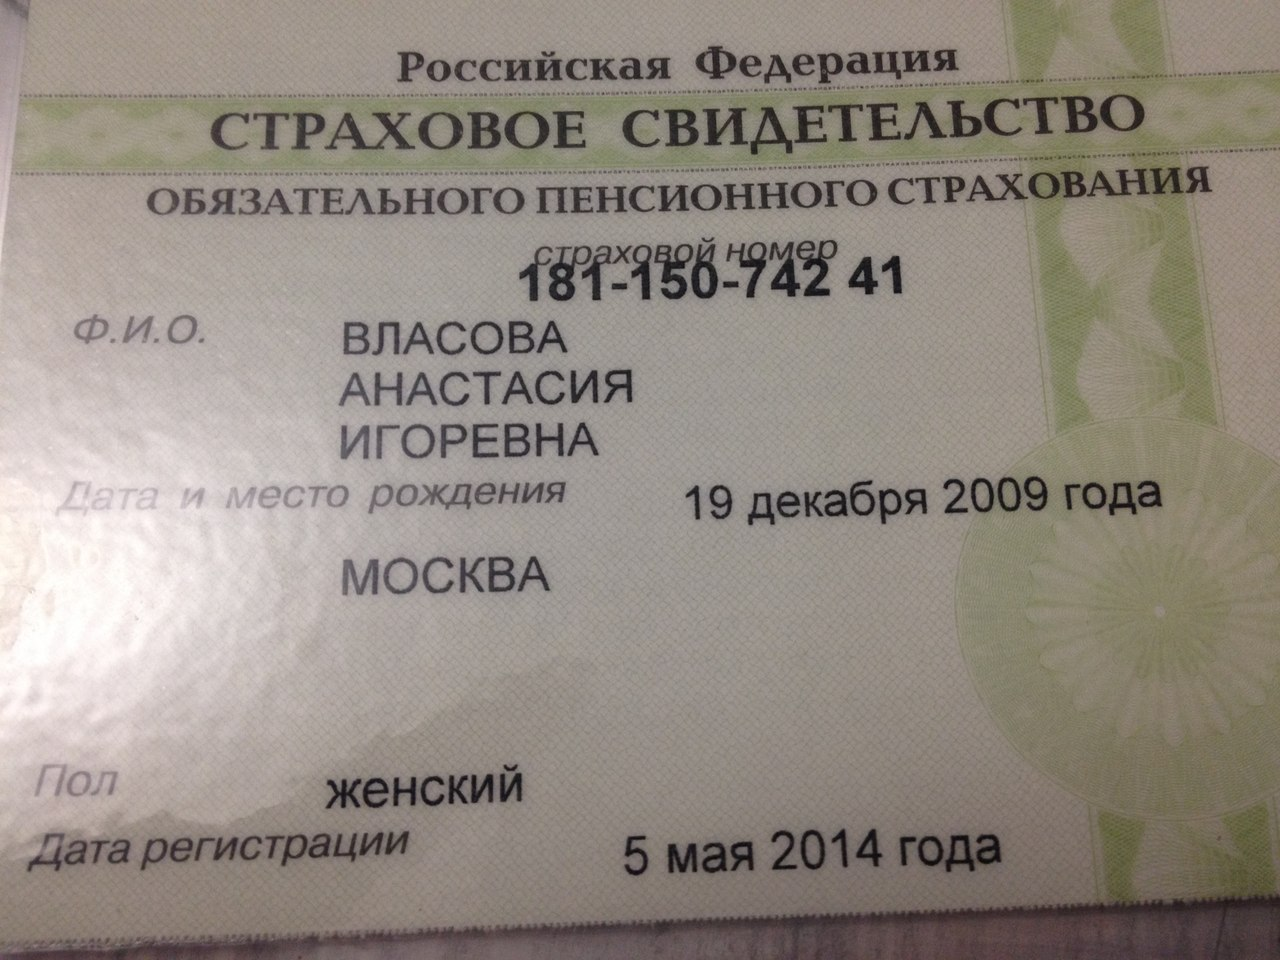text: (678, 467, 1174, 525), (616, 820, 1014, 881), (506, 254, 928, 307), (328, 362, 644, 411), (330, 419, 608, 468), (331, 544, 557, 601), (335, 314, 573, 362), (323, 761, 533, 811)
